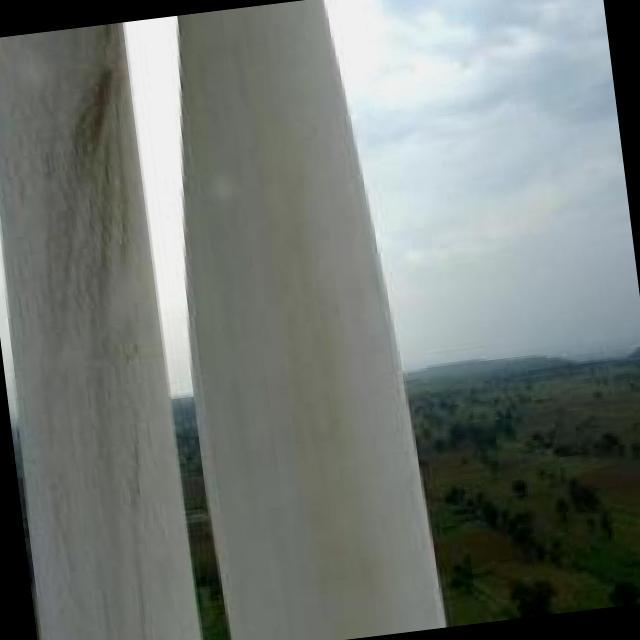Dirt: (0, 8, 186, 639)
